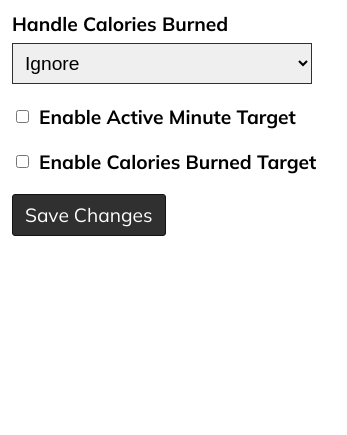
<EditActivitySettingsForm /> › it toggles the target fields
The image size is (347, 435).
What coordinates should you click on to do the following:
click the checkbox labelled "Enable Active Minute Target"
I would click on:
 (22, 117)
Its box is left=16, top=107, right=29, bottom=126.
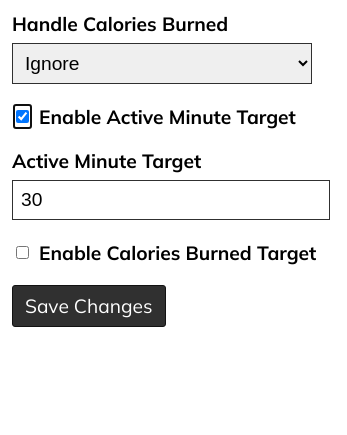
What coordinates should you click on to do the following:
click the checkbox labelled "Enable Calories Burned Target"
I would click on:
 (22, 253)
Its box is left=16, top=243, right=29, bottom=262.
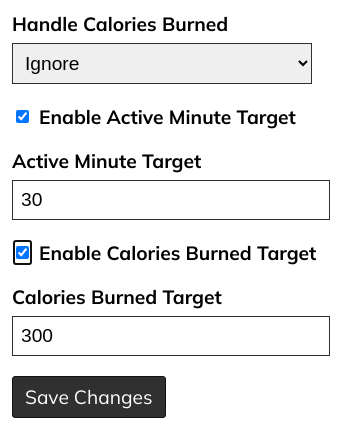
Expected: the field labelled "Active Minute Target" holds "30", left=12, top=180, right=330, bottom=220
Expected: the field labelled "Calories Burned Target" holds "300", left=12, top=316, right=330, bottom=356
